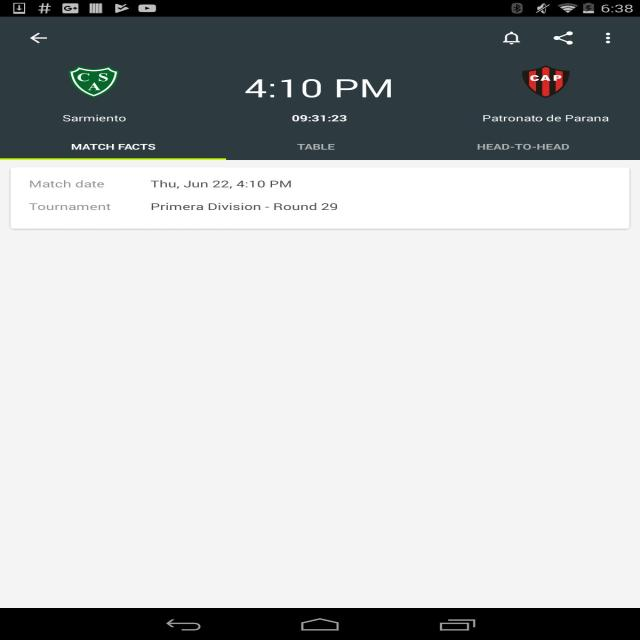button: (480, 61, 615, 130), (50, 57, 152, 131), (3, 132, 224, 160), (428, 130, 639, 159), (226, 131, 428, 161), (542, 24, 584, 56), (590, 24, 632, 56), (488, 23, 530, 53), (22, 23, 54, 52)
image: (508, 63, 582, 102), (63, 62, 126, 103)
text: (22, 175, 366, 222), (233, 75, 406, 129), (482, 112, 614, 126), (467, 142, 578, 155), (66, 138, 158, 153), (283, 139, 351, 154), (56, 112, 133, 122)
